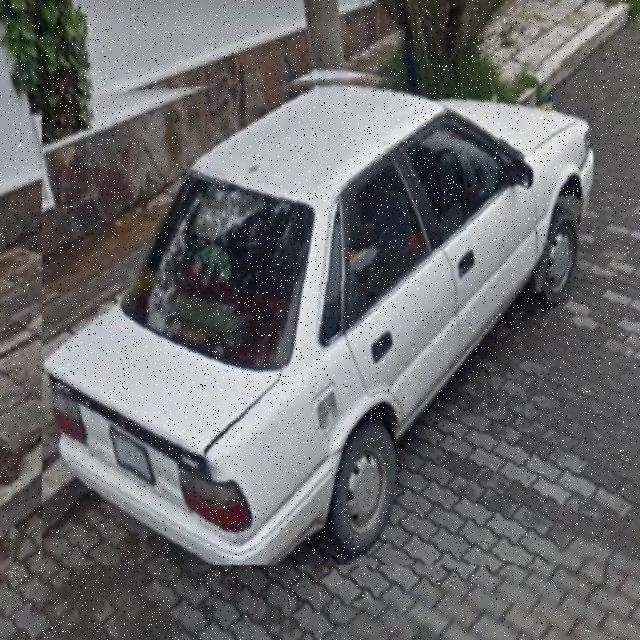car: (42, 64, 594, 566)
